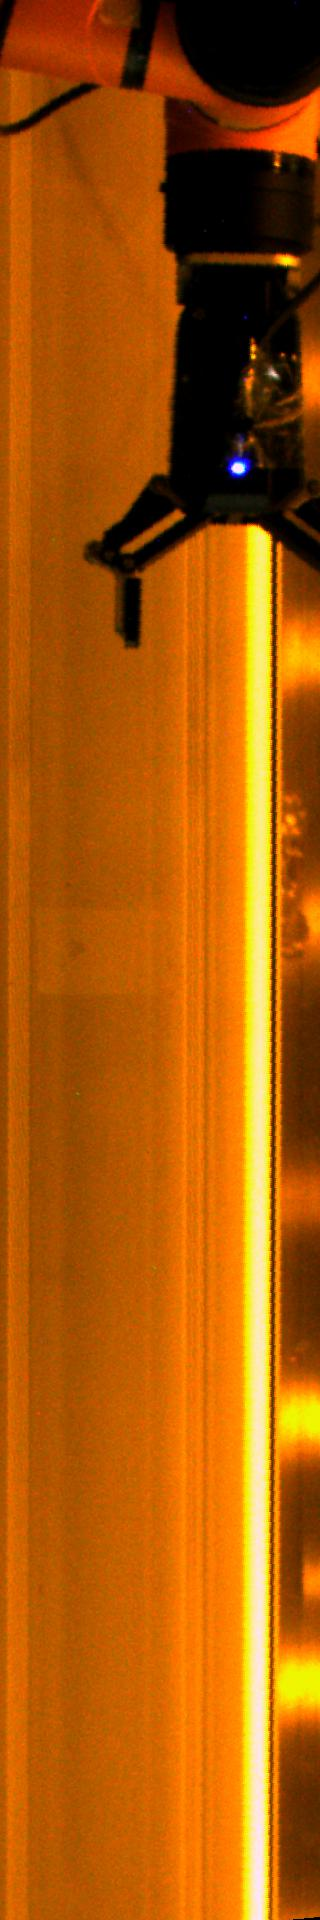keyPoint_1: (224, 454, 254, 484)
